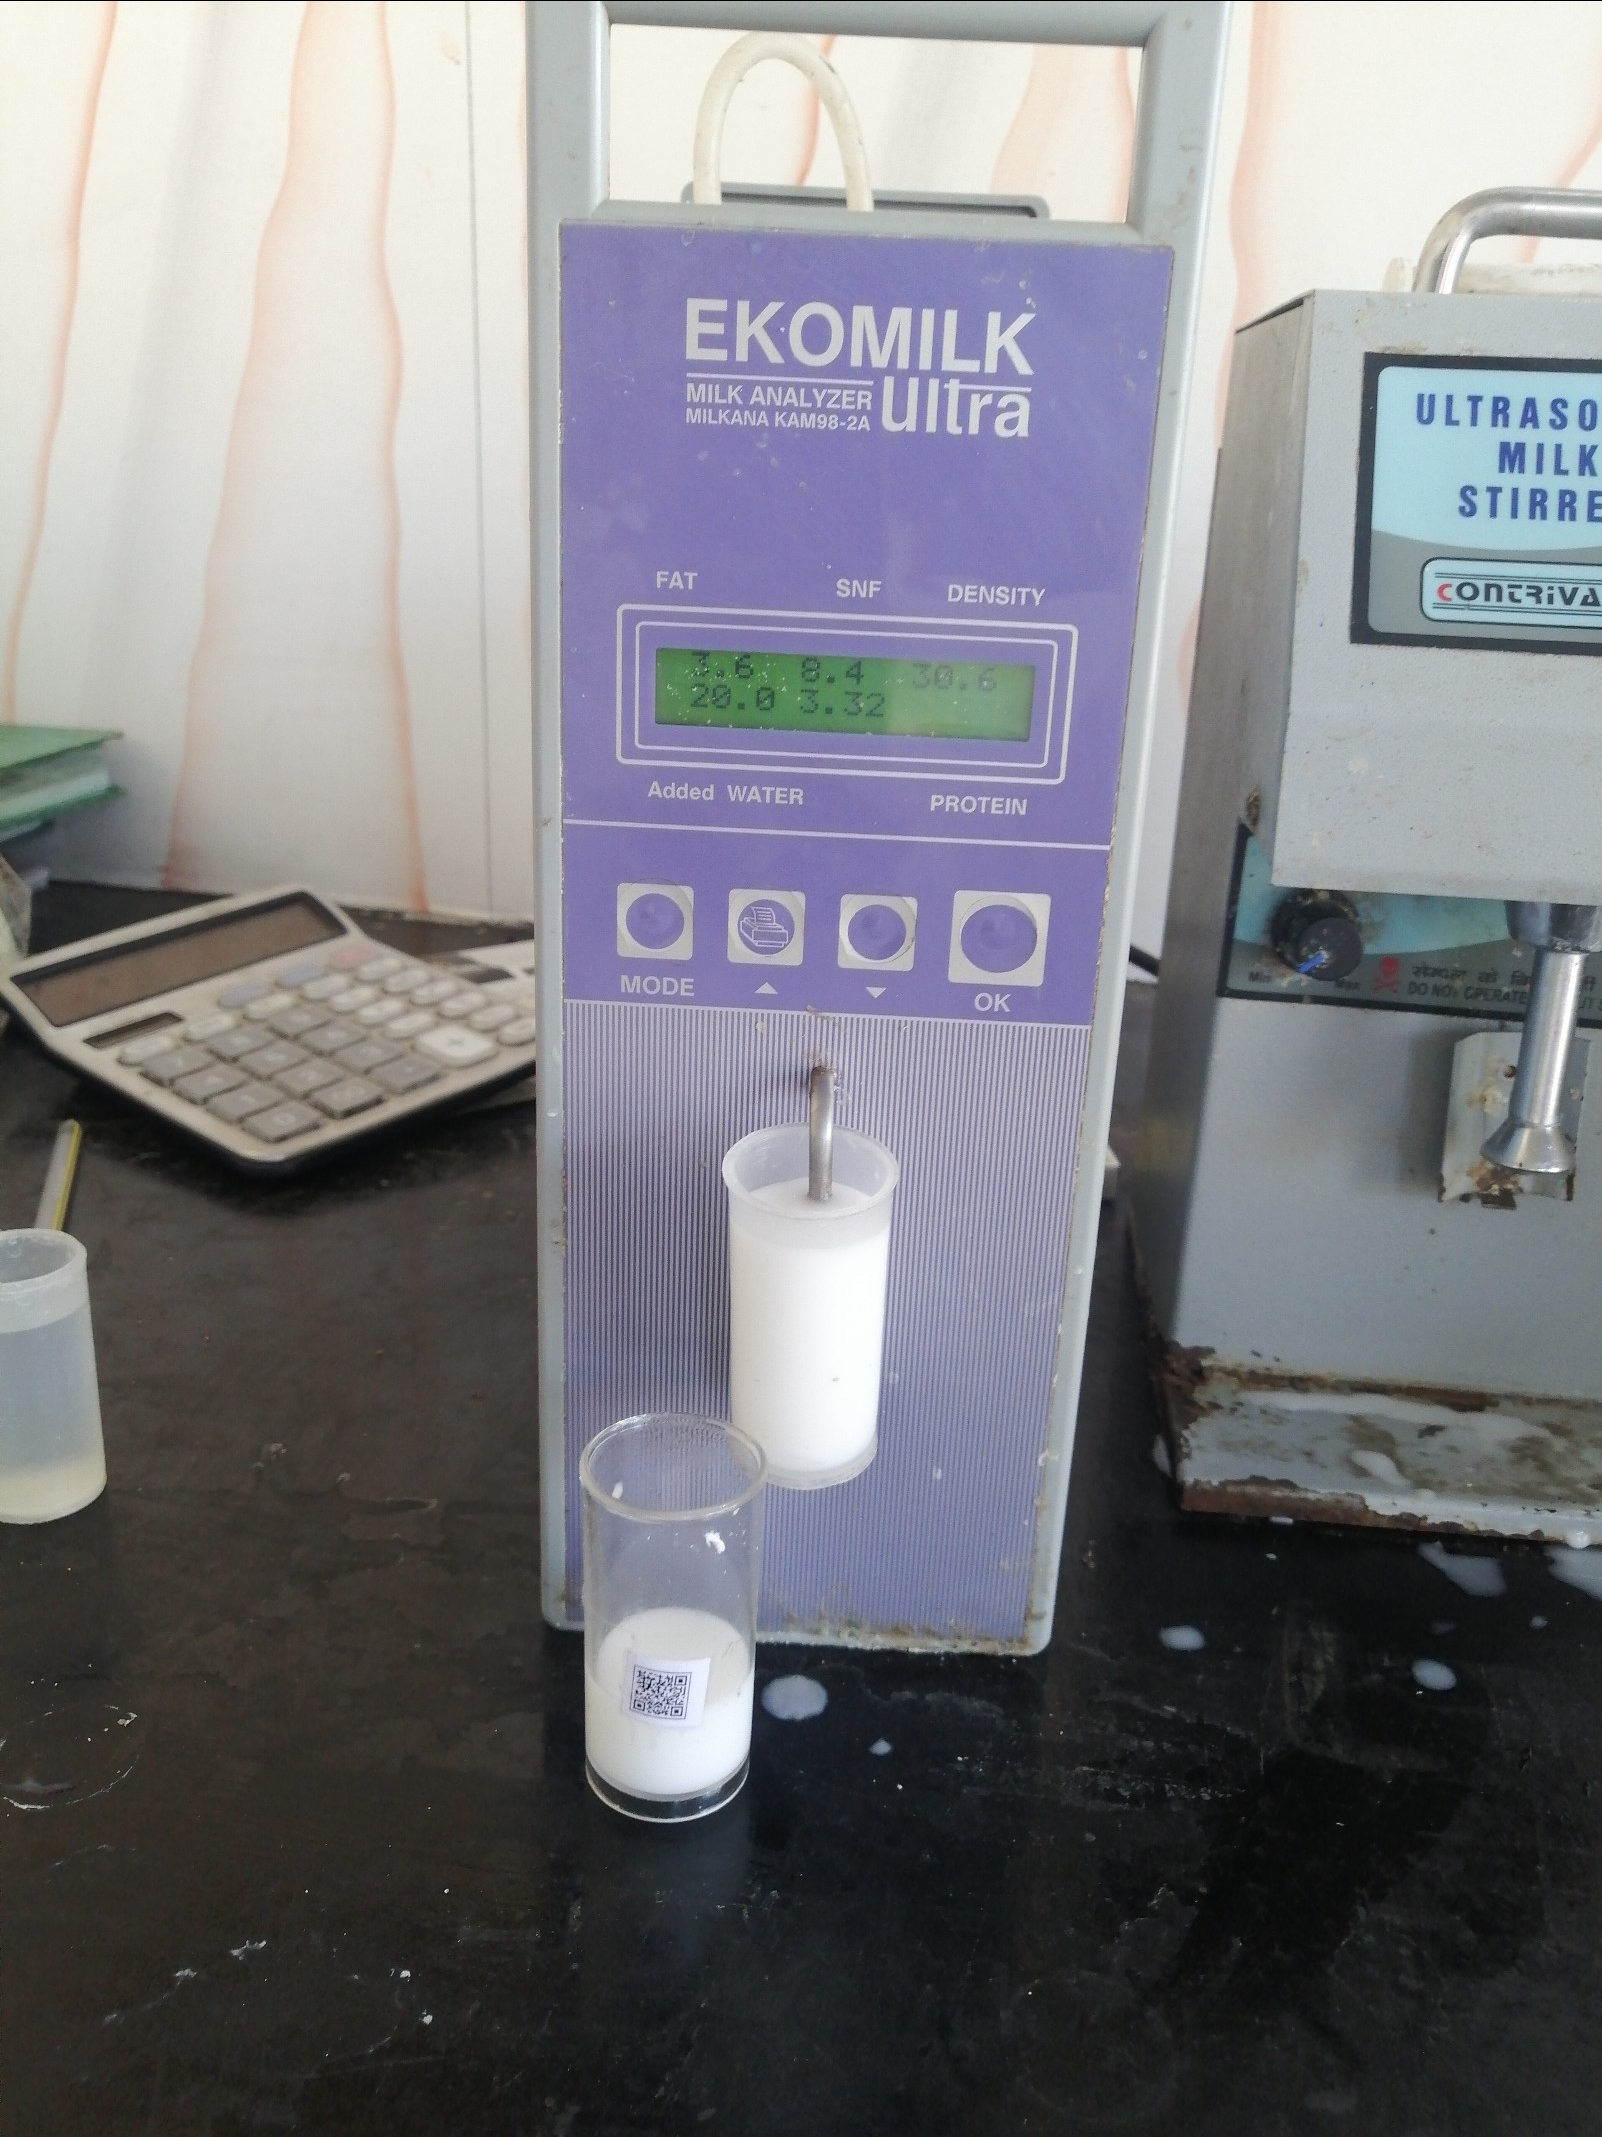lcd: (643, 638, 1069, 745)
qr: (602, 1652, 729, 1742)
